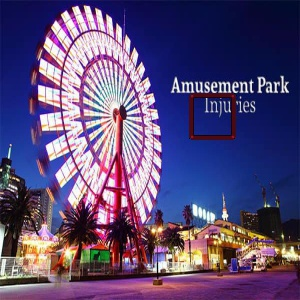square: (188, 92, 236, 140)
